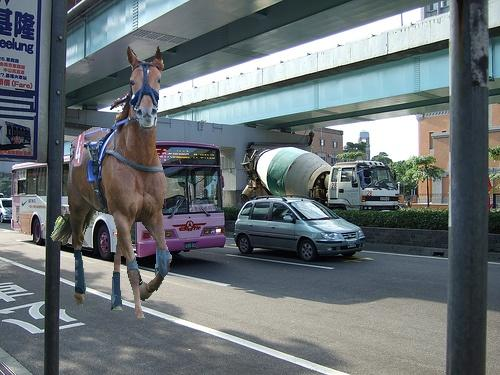tampered: (51, 47, 172, 318)
